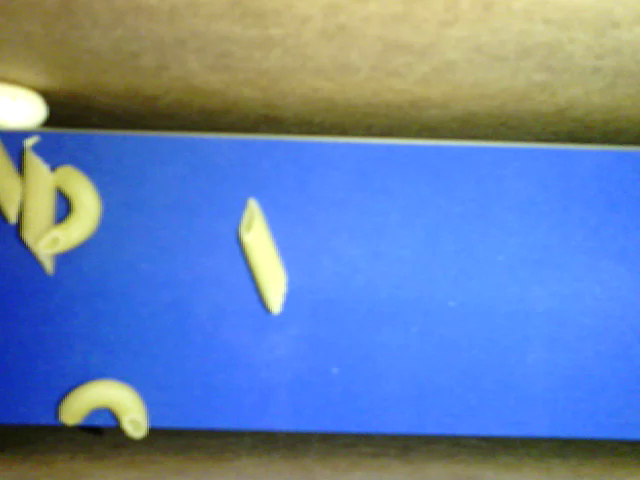elbow: (34, 164, 103, 254), (59, 377, 150, 441)
penne: (239, 196, 288, 317), (20, 146, 58, 275), (1, 140, 25, 225)
